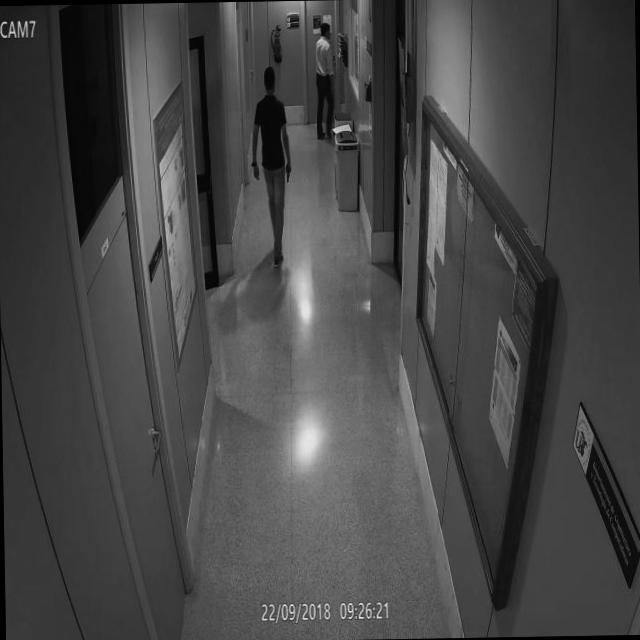gun: (283, 159, 294, 190)
person: (312, 18, 338, 144)
person with a gun: (250, 64, 298, 269)
